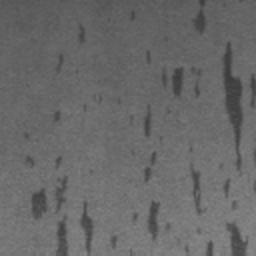Red iron sheet: (146, 41, 256, 256), (26, 155, 118, 256), (133, 200, 170, 239), (191, 0, 206, 35), (143, 151, 157, 183), (143, 104, 152, 138), (77, 22, 86, 45), (56, 54, 64, 72), (54, 111, 60, 123)
